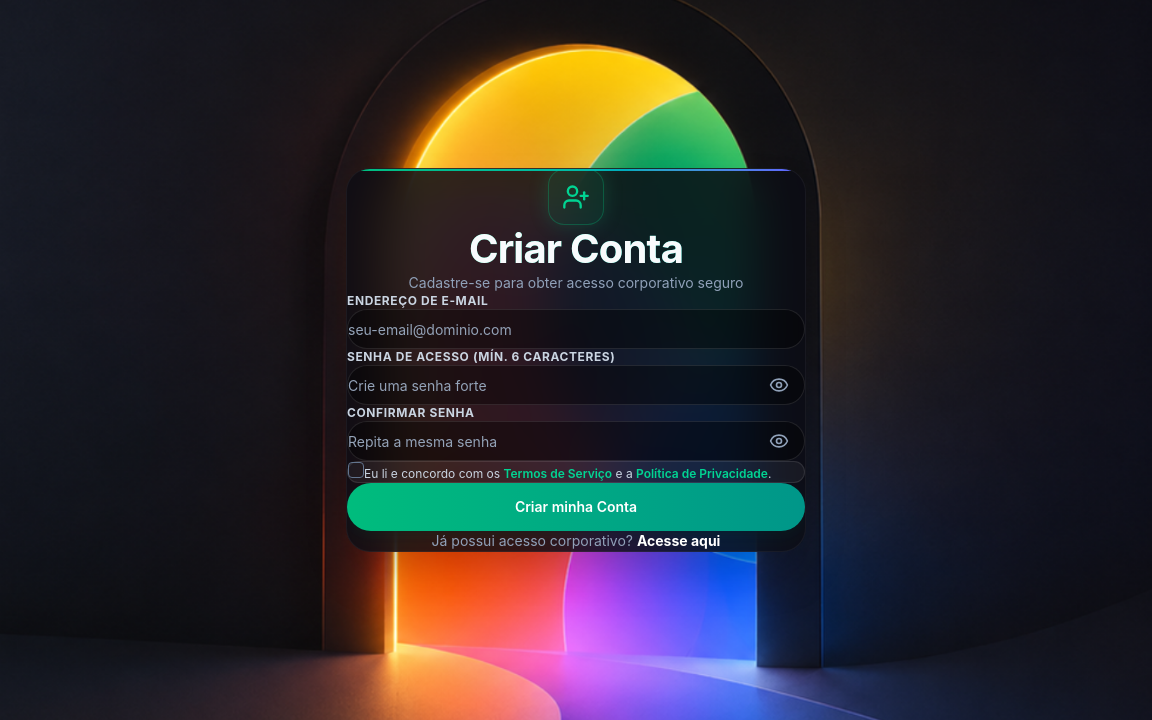
Test: Autenticação e Registro › Tela de Cadastro › deve falhar se confirmação de senha for diferente
Type "cadastro@empresa.com" into the field with placeholder "seu-email@dominio.com" at coordinates (576, 329), box [347,309,805,349]
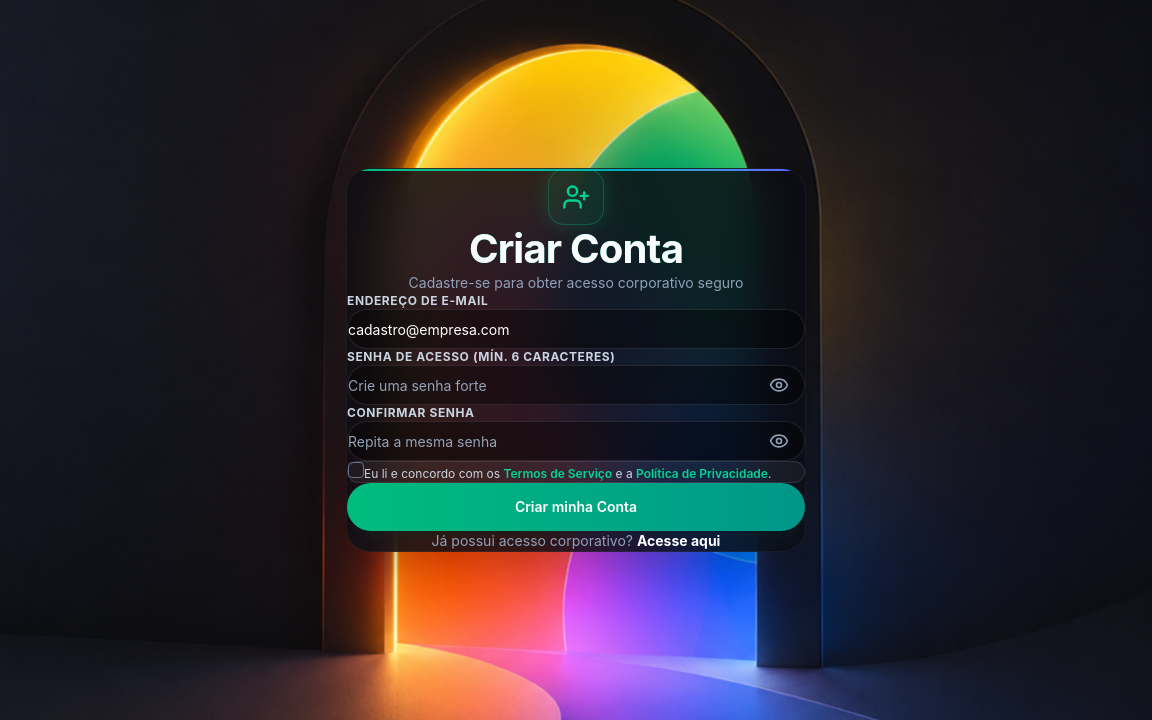
Type "senha123" into the password field with placeholder "Crie uma senha forte" at coordinates (576, 385), box [347,365,805,405]
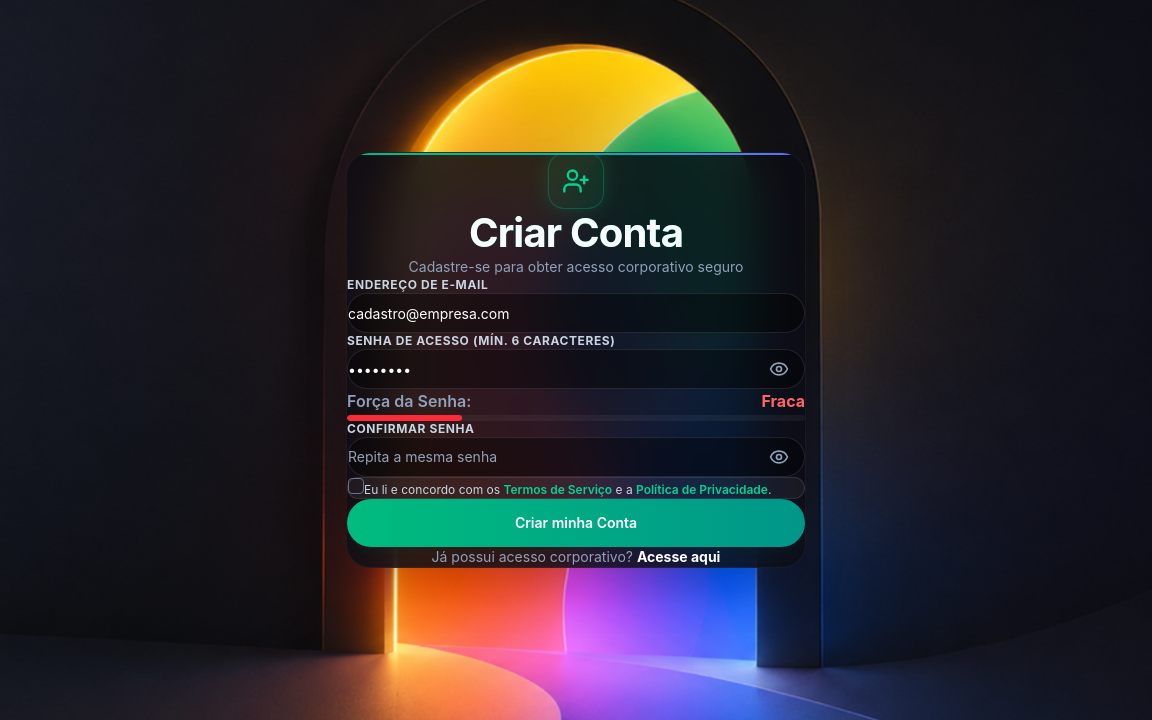
Type "senha999" into the password field with placeholder "Repita a mesma senha" at coordinates (576, 457), box [347,437,805,477]
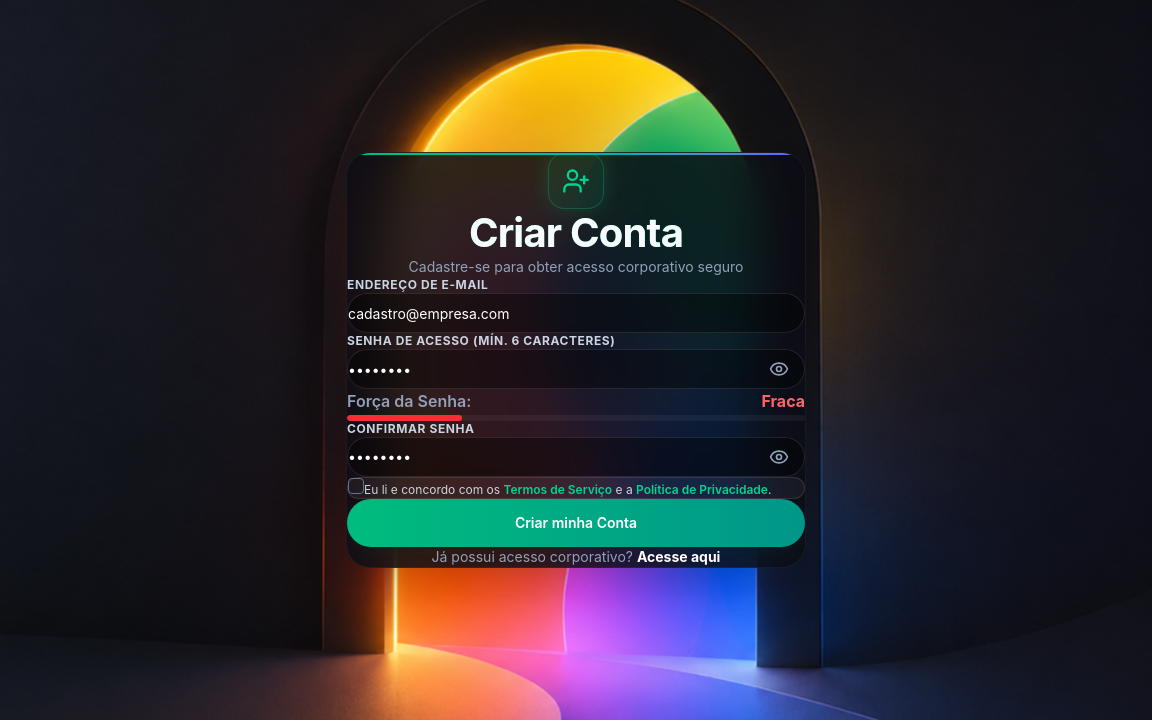
Click the checkbox at coordinates (356, 486), box [348,478,364,494]
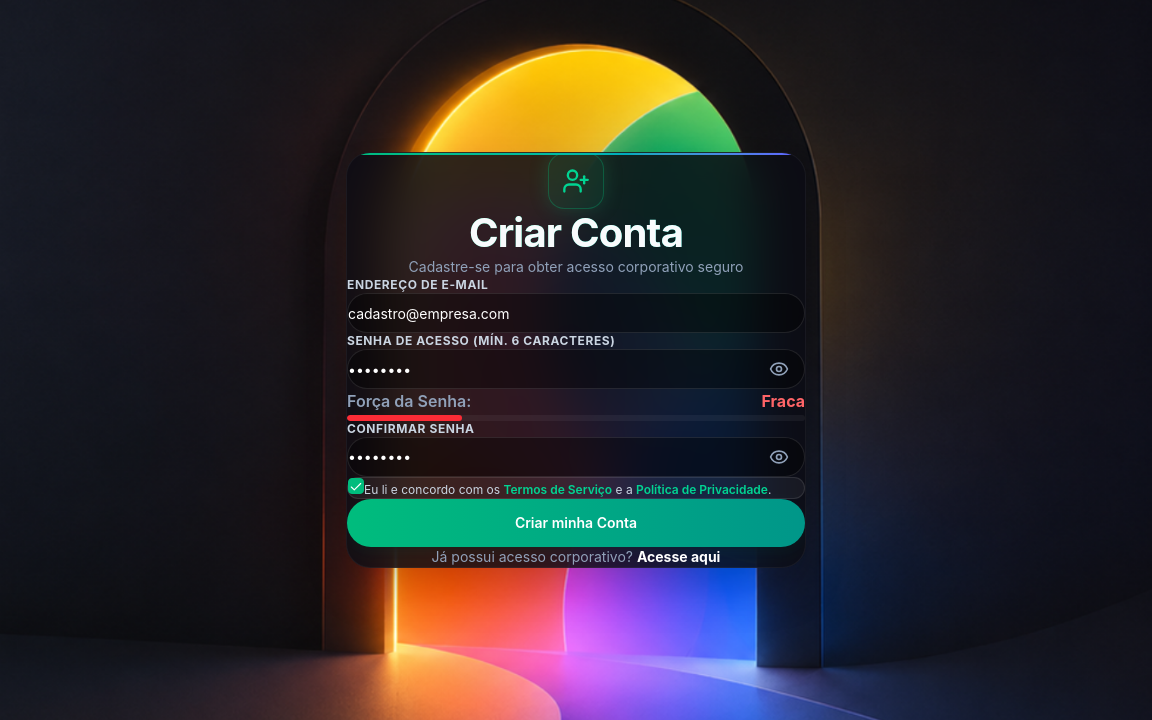
Click the button "Criar minha Conta" at coordinates (576, 523), box [347,499,805,547]
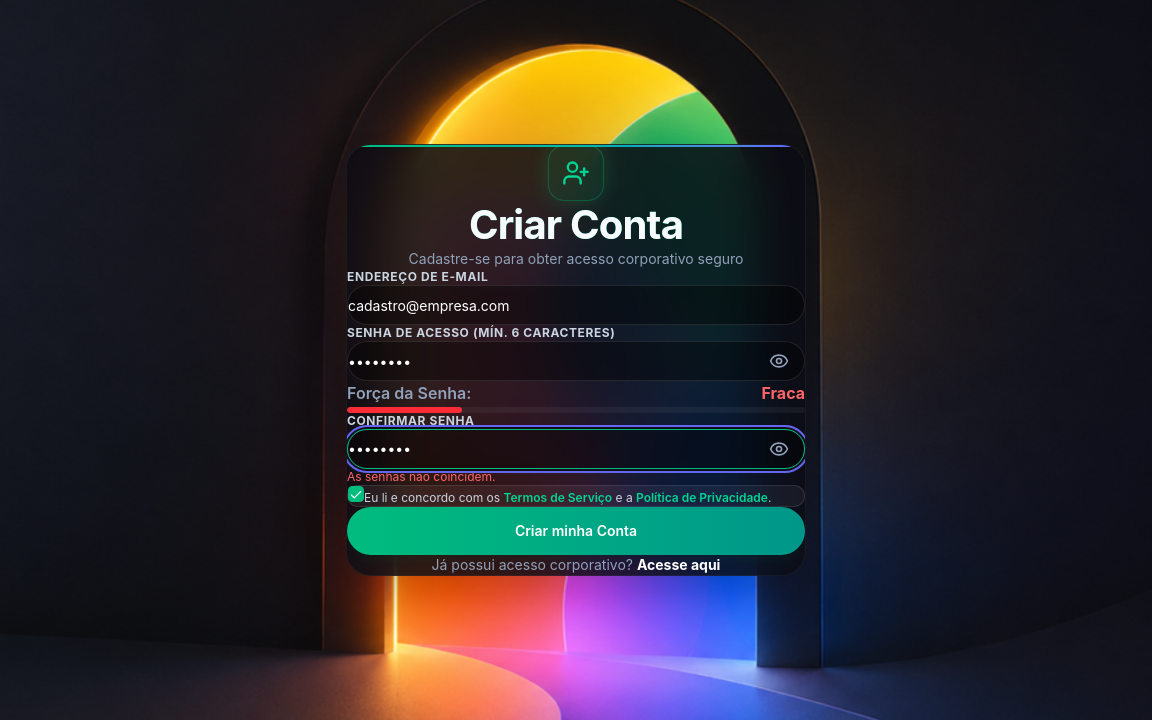
Check: the text "As senhas não coincidem." is shown, box [347,469,496,484]
